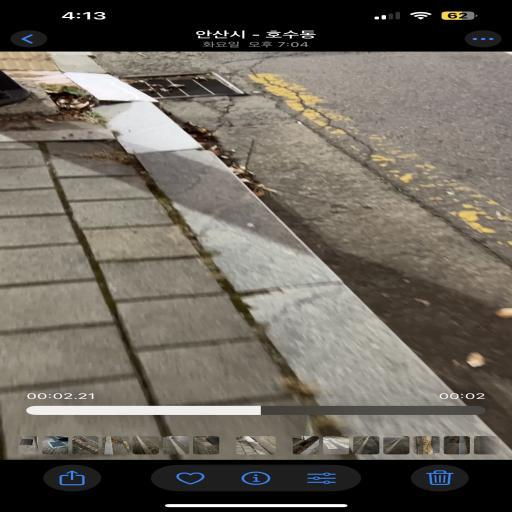debris: (151, 84, 169, 92), (193, 75, 208, 84), (124, 78, 145, 84), (169, 84, 185, 88)
drain: (117, 72, 247, 99)
